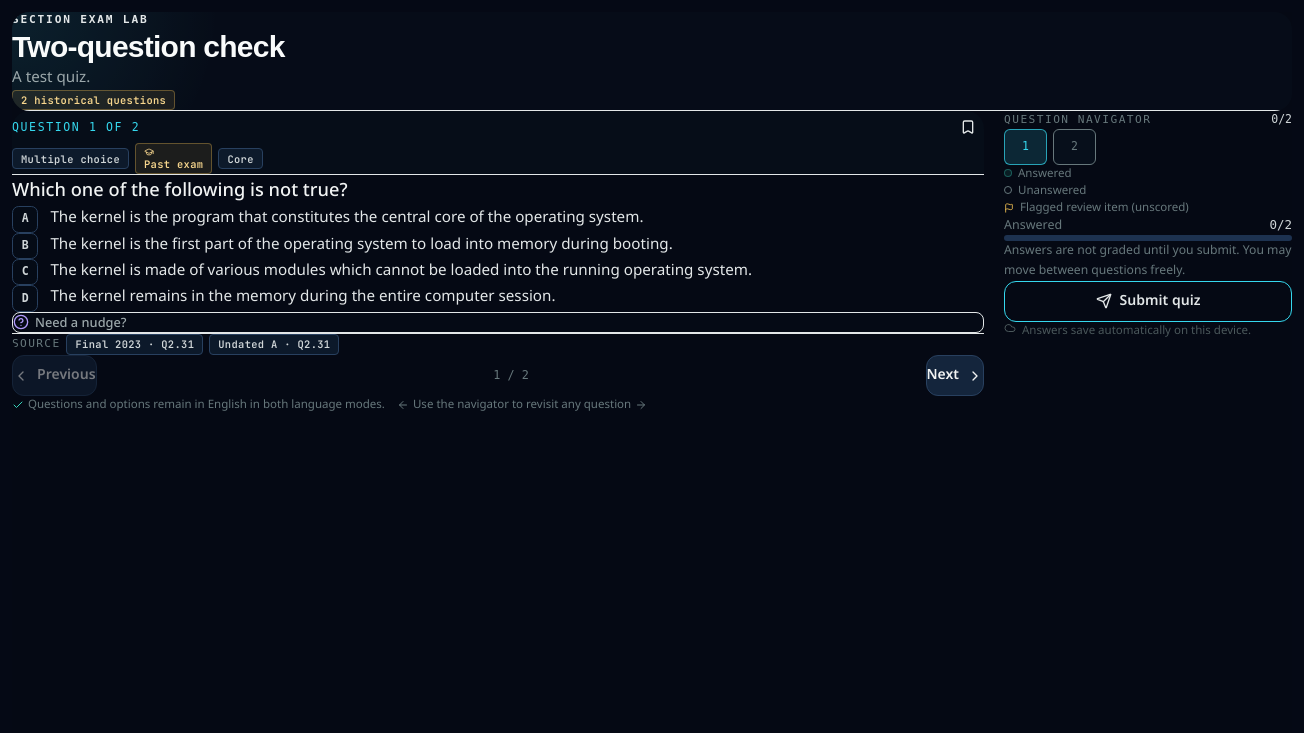
Test: QuizEngine › warns about unanswered questions and requires an explicit submit-anyway
What coordinates should you click on to do the following:
click the radio button labelled "made of various modules which cannot be loaded"
I would click on:
 (382, 270)
Its box is [12,254,752,286].
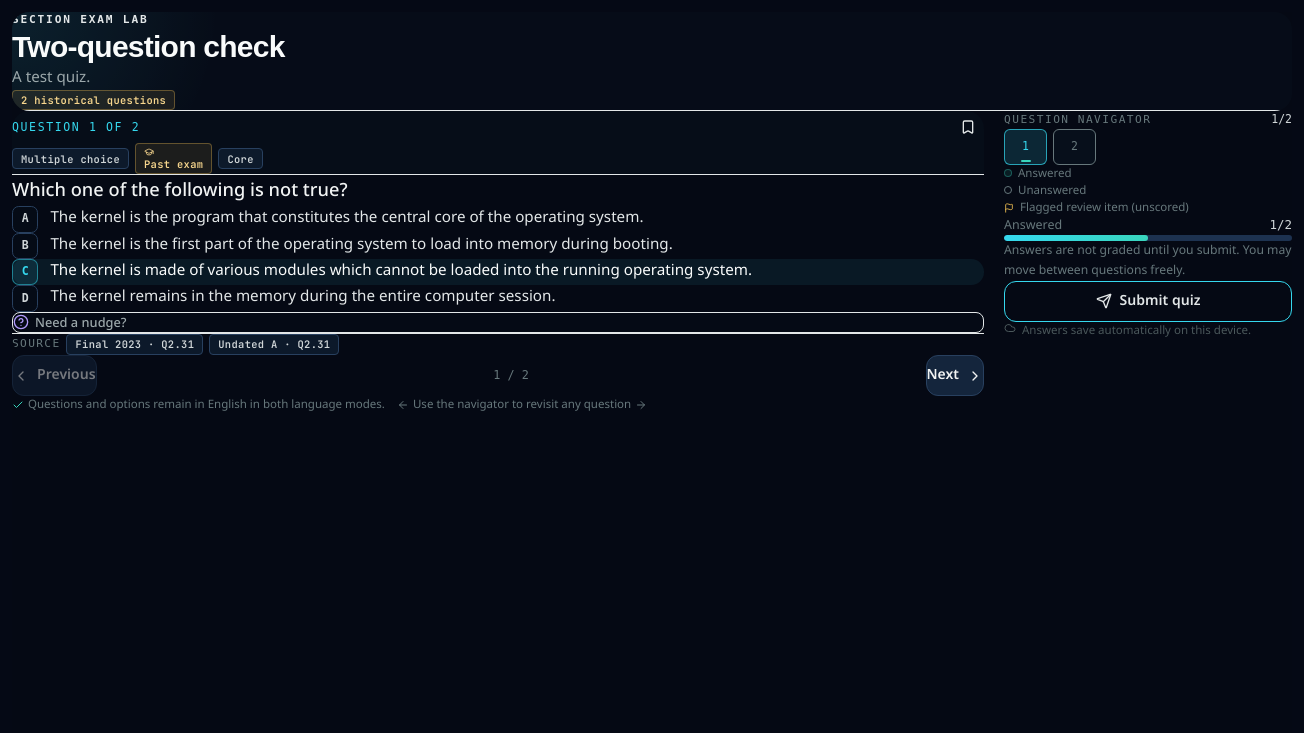
What coordinates should you click on to do the following:
click the button "Submit quiz"
I would click on:
 (1148, 301)
Its box is [1004,281,1292,322].
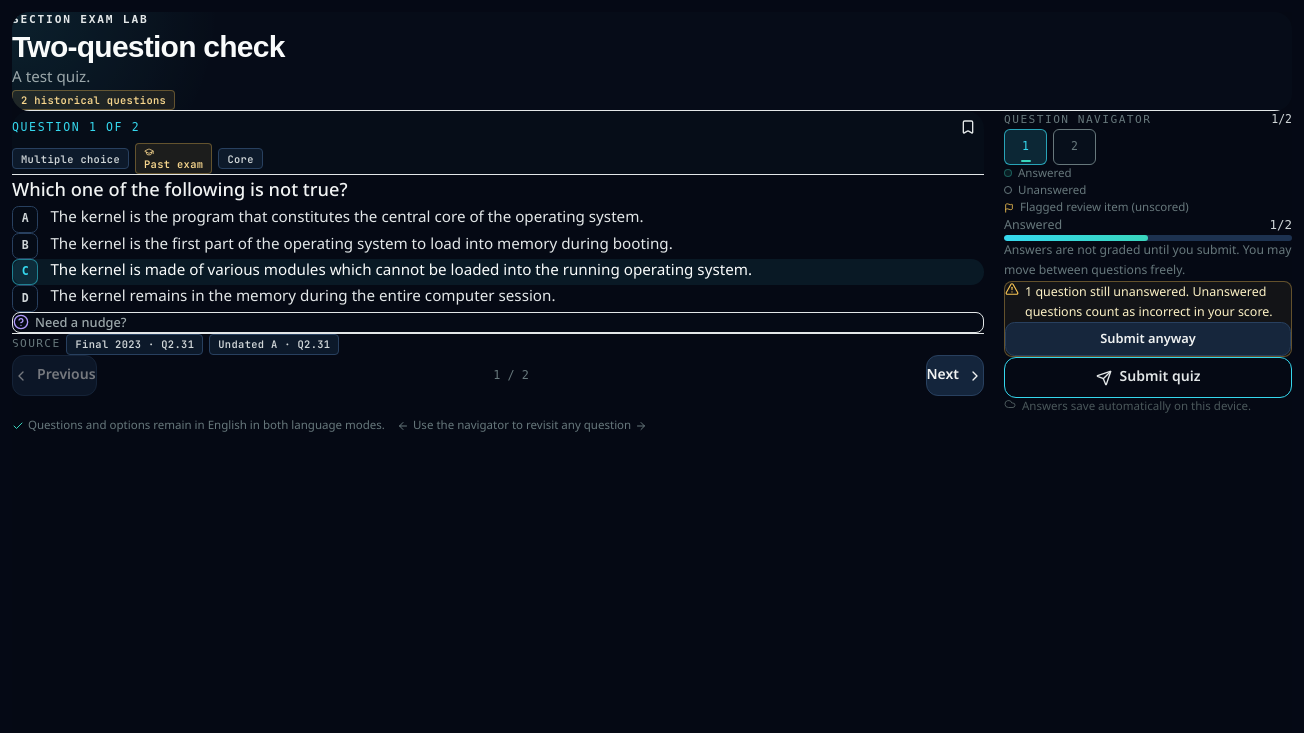
Expected: the heading "Needs revision" is not shown
Result: the message shows "1 question still unanswered" at [1004,281,1292,357]
What coordinates should you click on to do the following:
click the button "Submit anyway"
I would click on:
 (1148, 339)
Its box is [1005,322,1291,356].
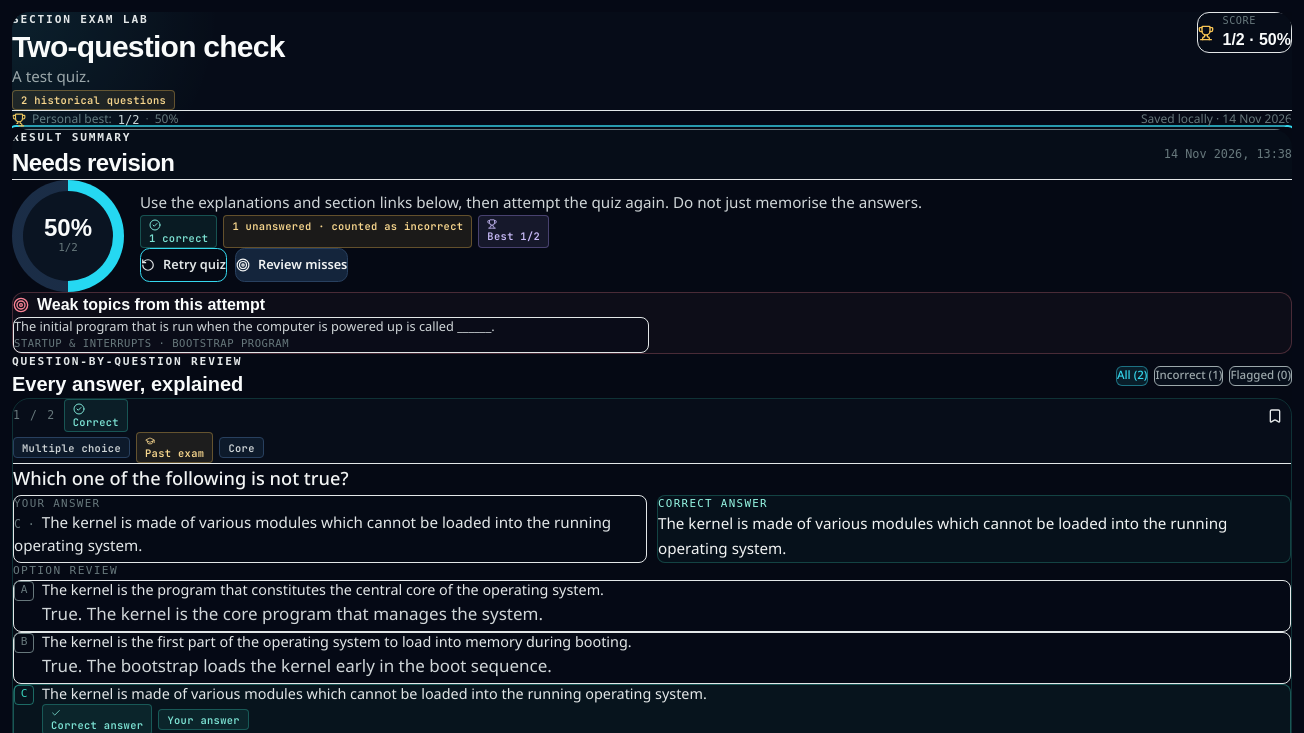
Result: the heading "Needs revision" is shown at [12,147,174,179]
Result: the text "1 unanswered · counted as incorrect" is shown at [223,215,472,248]
